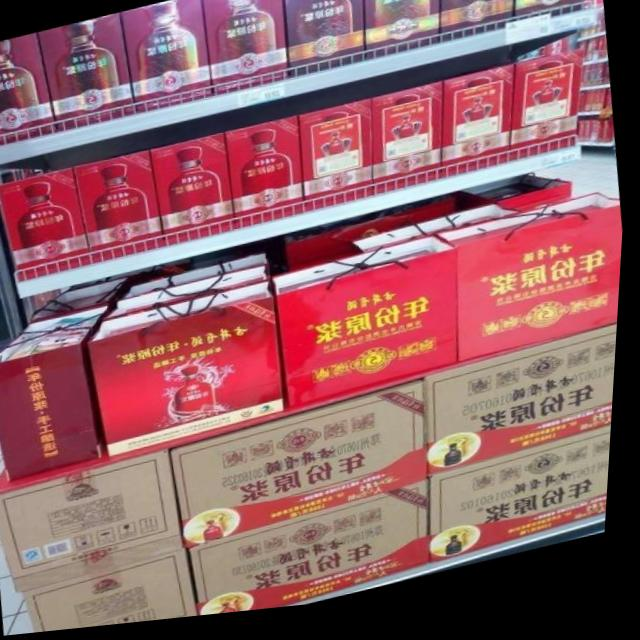box: (172, 386, 434, 550), (91, 283, 292, 461), (193, 491, 440, 621), (433, 205, 625, 372), (272, 243, 459, 414), (428, 335, 622, 492), (0, 450, 189, 594), (434, 445, 617, 570), (0, 301, 121, 481), (24, 553, 208, 634), (41, 16, 136, 131), (119, 0, 213, 114), (107, 259, 276, 322), (1, 170, 92, 281), (226, 122, 311, 235), (78, 155, 165, 265), (278, 217, 429, 277), (154, 139, 237, 248), (299, 106, 376, 217), (371, 92, 445, 203), (512, 61, 585, 173), (203, 0, 286, 98), (444, 74, 515, 187), (282, 0, 362, 85), (0, 35, 59, 145), (134, 247, 277, 291), (364, 0, 439, 66), (392, 203, 509, 244), (31, 276, 136, 320), (455, 187, 578, 224), (442, 0, 513, 51), (512, 0, 585, 36)
